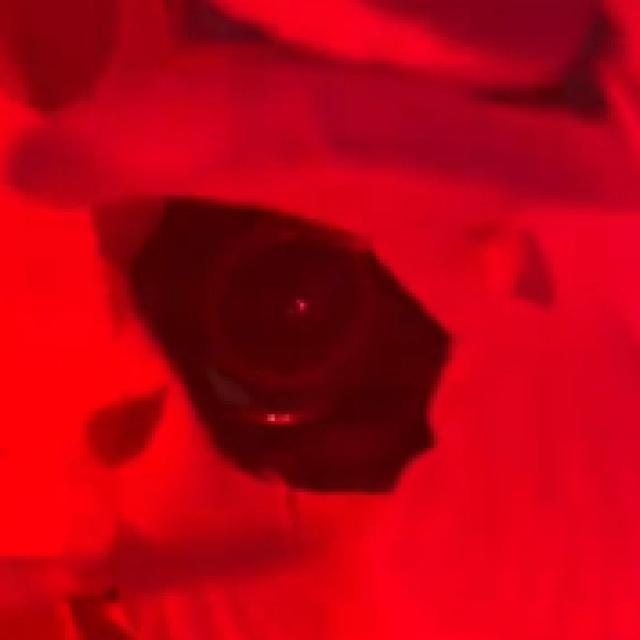hidden camera: (211, 230, 362, 378)
